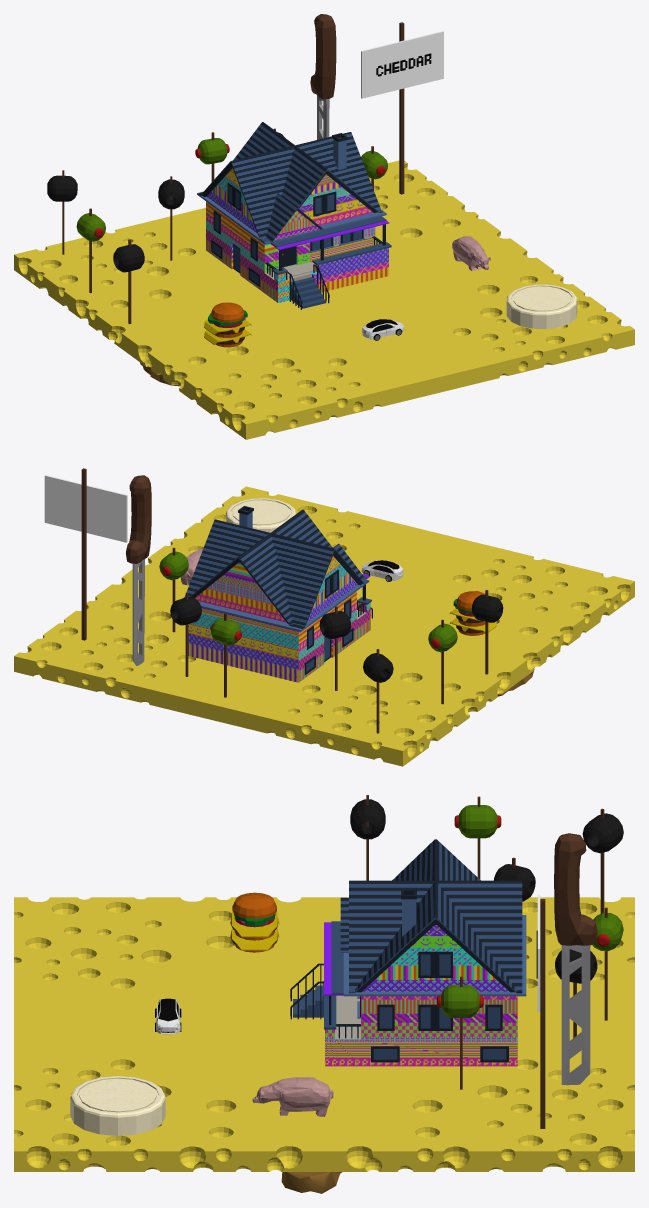
The picture shows the model from 3 angles, top to bottom: view 1: azimuth 30°, elevation 25°; view 2: azimuth 150°, elevation 25°; view 3: azimuth 270°, elevation 25°; orthographic projection. The views are drawn at different scales.
Parts seen in each view (by area): view 1: Cube.022, Cube.676, Cube.023, Cylinder.016, Cube.024, OBJRANDOM_HAMBURGER, Sphere.017, ANIMAL_HIPOPOTAMO, Sphere.016, Sphere.020, Sphere.018, Sphere.022 (+2 smaller); view 2: Cube.022, Cube.676, Cube.023, Cube.024, Cylinder.016, OBJRANDOM_HAMBURGER, Sphere.017, Sphere.021, Sphere.016, Sphere.020, Sphere.022, Sphere.018 (+2 smaller); view 3: Cube.022, Cube.676, Cube.024, Cylinder.016, OBJRANDOM_HAMBURGER, ANIMAL_HIPOPOTAMO, Cube.023, Sphere.016, Sphere.019, Sphere.018, Sphere.017, Sphere.022 (+4 smaller).
Boxes of the visible parts, x1,y1,x2,y2 form: Cube.022: [14, 160, 634, 439]; Cube.676: [197, 122, 391, 309]; Cube.023: [361, 22, 443, 194]; Cylinder.016: [506, 284, 577, 328]; Cube.024: [310, 14, 336, 139]; OBJRANDOM_HAMBURGER: [204, 302, 251, 347]; Sphere.017: [113, 239, 144, 324]; ANIMAL_HIPOPOTAMO: [452, 236, 490, 270]; Sphere.016: [47, 170, 77, 254]; Sphere.020: [158, 176, 184, 260]; Sphere.018: [76, 208, 105, 293]; Sphere.022: [195, 132, 229, 181]; Cube.022: [14, 486, 634, 766]; Cube.676: [183, 506, 372, 682]; Cube.023: [44, 468, 127, 640]; Cube.024: [126, 475, 151, 665]; Cylinder.016: [226, 498, 295, 532]; OBJRANDOM_HAMBURGER: [449, 591, 496, 635]; Sphere.017: [471, 590, 503, 674]; Sphere.021: [170, 592, 201, 676]; Sphere.016: [363, 649, 393, 733]; Sphere.020: [319, 606, 350, 690]; Sphere.022: [210, 613, 241, 697]; Sphere.018: [428, 619, 457, 704]; Cube.022: [14, 897, 634, 1171]; Cube.676: [290, 839, 526, 1066]; Cube.024: [554, 833, 597, 1085]; Cylinder.016: [70, 1076, 165, 1135]; OBJRANDOM_HAMBURGER: [230, 892, 279, 952]; ANIMAL_HIPOPOTAMO: [252, 1077, 333, 1116]; Cube.023: [536, 895, 545, 1128]; Sphere.016: [582, 808, 623, 913]; Sphere.019: [437, 976, 483, 1089]; Sphere.018: [454, 796, 501, 879]; Sphere.017: [350, 795, 385, 880]; Sphere.022: [592, 907, 623, 1020].
Size of the model in its own units: 3928 by 2120 by 4000.
39 materials, 7 textured.
